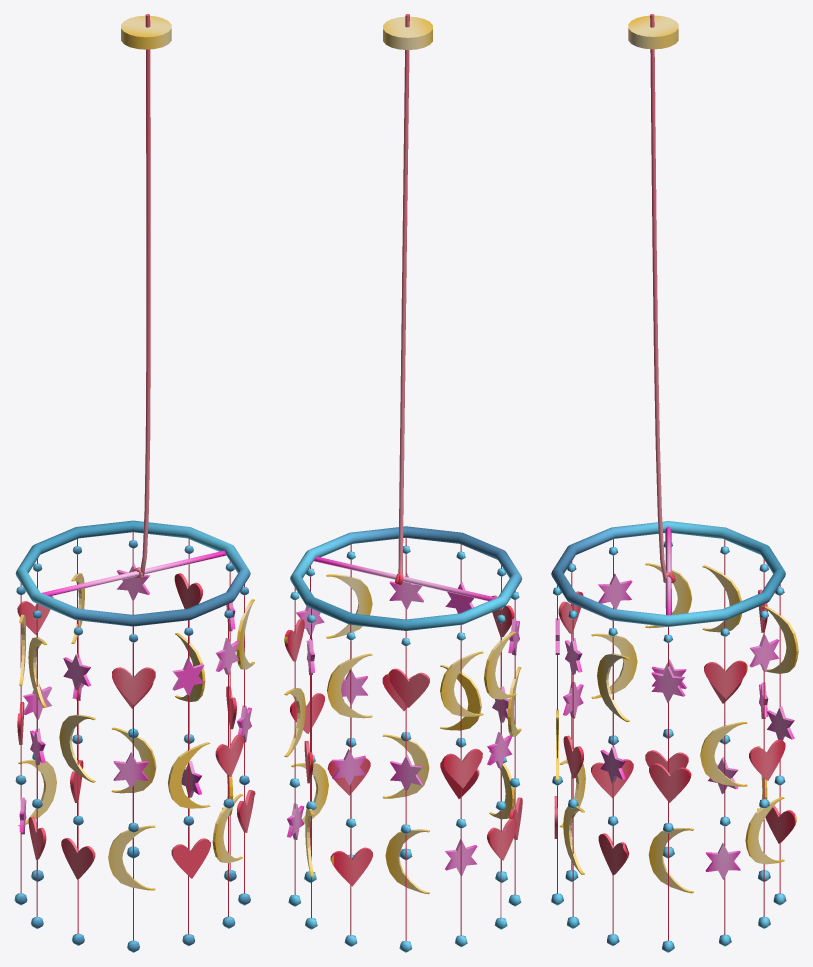
Rendered from MS_Baby mobil.fbx.
3 renders of one model, left to right at view 1: azimuth 30°, elevation 25°; view 2: azimuth 150°, elevation 25°; view 3: azimuth 270°, elevation 25°, orthographic.
Parts seen in each view (by area): view 1: Line026; view 2: Line026; view 3: Line026.
Part boxes in pixels (<box>): Line026: <box>14,14,255,952</box>; Line026: <box>284,14,522,952</box>; Line026: <box>551,14,798,952</box>.
Size of the model in its own units: 216 by 885 by 222.
